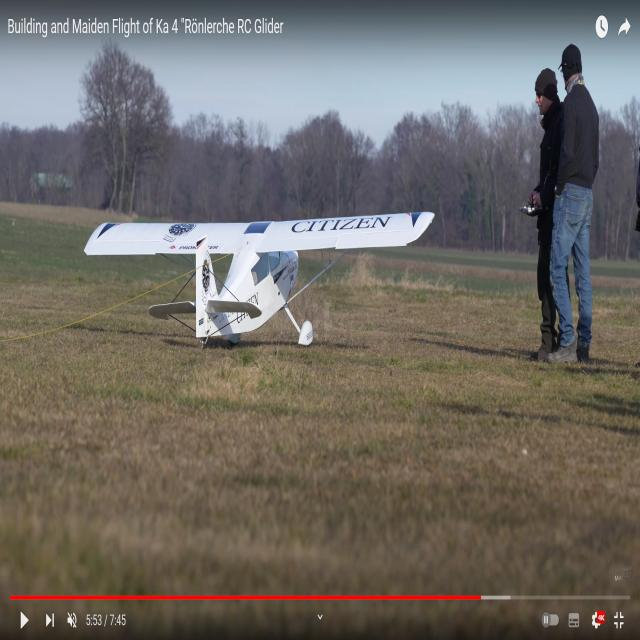iha: (76, 216, 440, 348)
